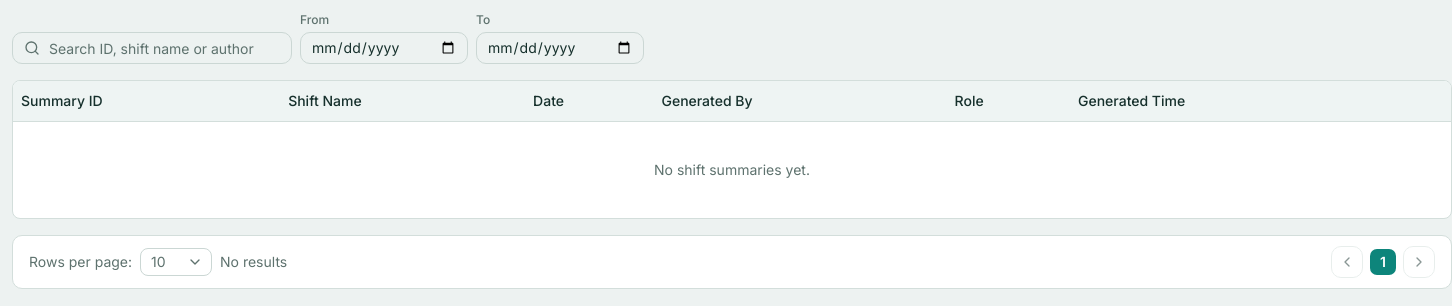
Scenario: SummariesTable › tells the user filters are why the table is empty
Expected: the text "No shift summaries yet." is shown, [13,122,1451,218]
Type "nothing-matches" into the search field named "Search summaries" at (152, 48), box [12,32,292,64]
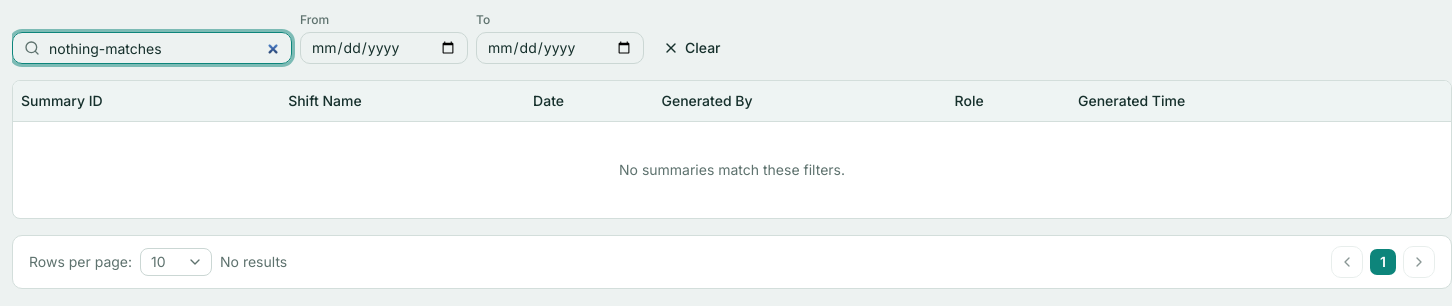
Now the text "No summaries match these filters." is shown, box [13,122,1451,218]
